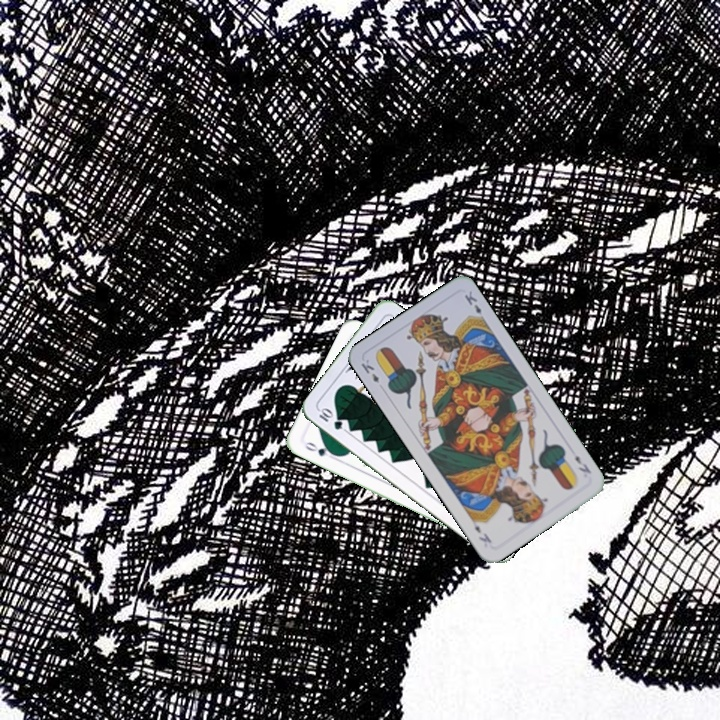EK: (357, 355, 382, 386), (571, 451, 594, 476)
G10: (315, 404, 345, 433)
GO: (300, 438, 339, 459)
